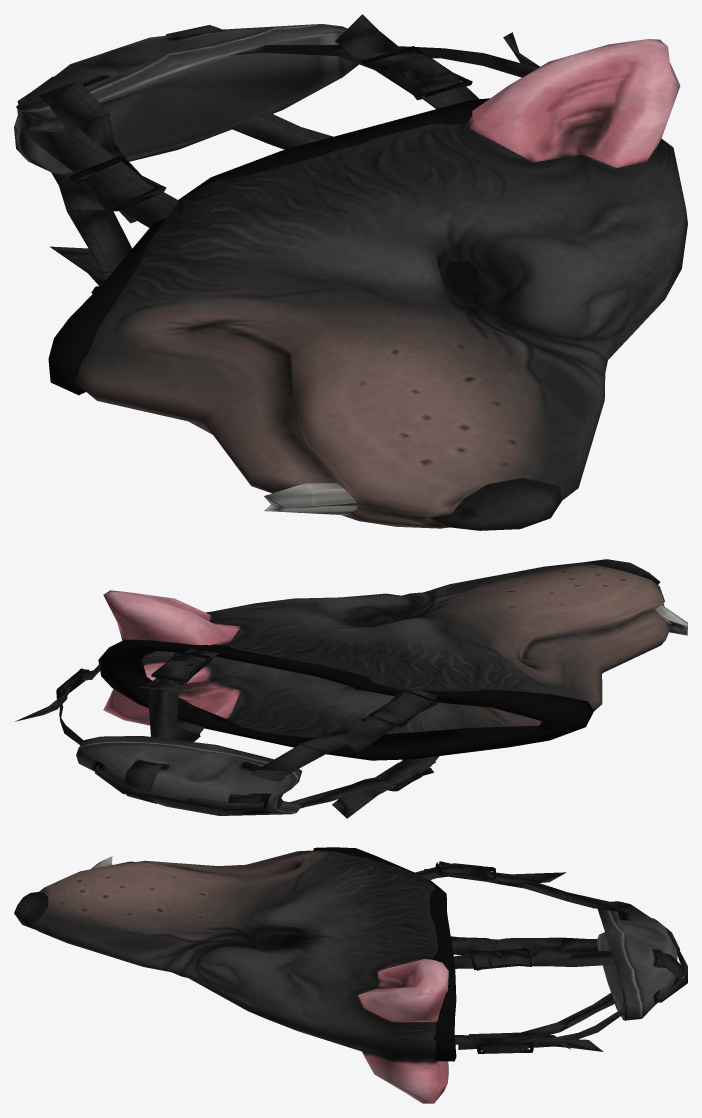
The model's file is RatMask_Ground.fbx.
3 renders of one model, top to bottom at view 1: azimuth 30°, elevation 25°; view 2: azimuth 150°, elevation 25°; view 3: azimuth 270°, elevation 25°, orthographic. The views are drawn at different scales.
Visible parts, largest first — view 1: RatMask.001; view 2: RatMask.001; view 3: RatMask.001.
Part boxes in pixels (box(x1,y1,x2,y2)): RatMask.001: box(14, 14, 687, 530); RatMask.001: box(15, 559, 687, 818); RatMask.001: box(14, 847, 687, 1103).
Bounding box in the file's own units: 0.1602 × 0.0434 × 0.2308.
